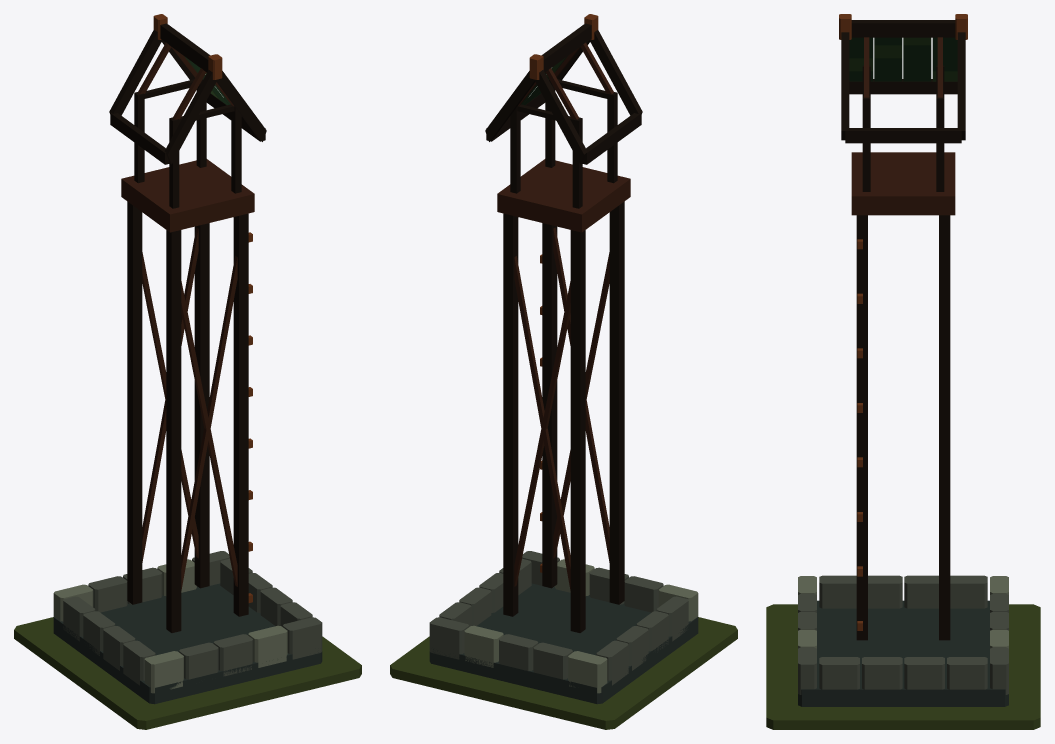
File: tower_t6.glb
The picture shows the model from 3 angles, left to right: view 1: azimuth 30°, elevation 25°; view 2: azimuth 150°, elevation 25°; view 3: azimuth 270°, elevation 25°; orthographic projection. The views are drawn at different scales.
Visible parts, largest first — view 1: MMR | tower | T06 Architecture.001, MMR | tower | Tier 06 Ground.001, MMR | tower | T06 Roof Supports.001; view 2: MMR | tower | T06 Architecture.001, MMR | tower | Tier 06 Ground.001, MMR | tower | T06 Roof Supports.001; view 3: MMR | tower | T06 Architecture.001, MMR | tower | Tier 06 Ground.001, MMR | tower | T06 Roof Supports.001.
Part boxes in pixels (bbox=[...]): MMR | tower | T06 Architecture.001: bbox=[53, 14, 322, 704]; MMR | tower | Tier 06 Ground.001: bbox=[14, 617, 361, 729]; MMR | tower | T06 Roof Supports.001: bbox=[134, 42, 241, 208]; MMR | tower | T06 Architecture.001: bbox=[429, 14, 698, 704]; MMR | tower | Tier 06 Ground.001: bbox=[390, 617, 737, 729]; MMR | tower | T06 Roof Supports.001: bbox=[510, 42, 617, 208]; MMR | tower | T06 Architecture.001: bbox=[798, 14, 1008, 706]; MMR | tower | Tier 06 Ground.001: bbox=[766, 604, 1040, 729]; MMR | tower | T06 Roof Supports.001: bbox=[862, 37, 944, 191].
Size of the model in its own units: 1.3 by 3.43 by 1.3.
Materials: 1 (1 with a texture image).
